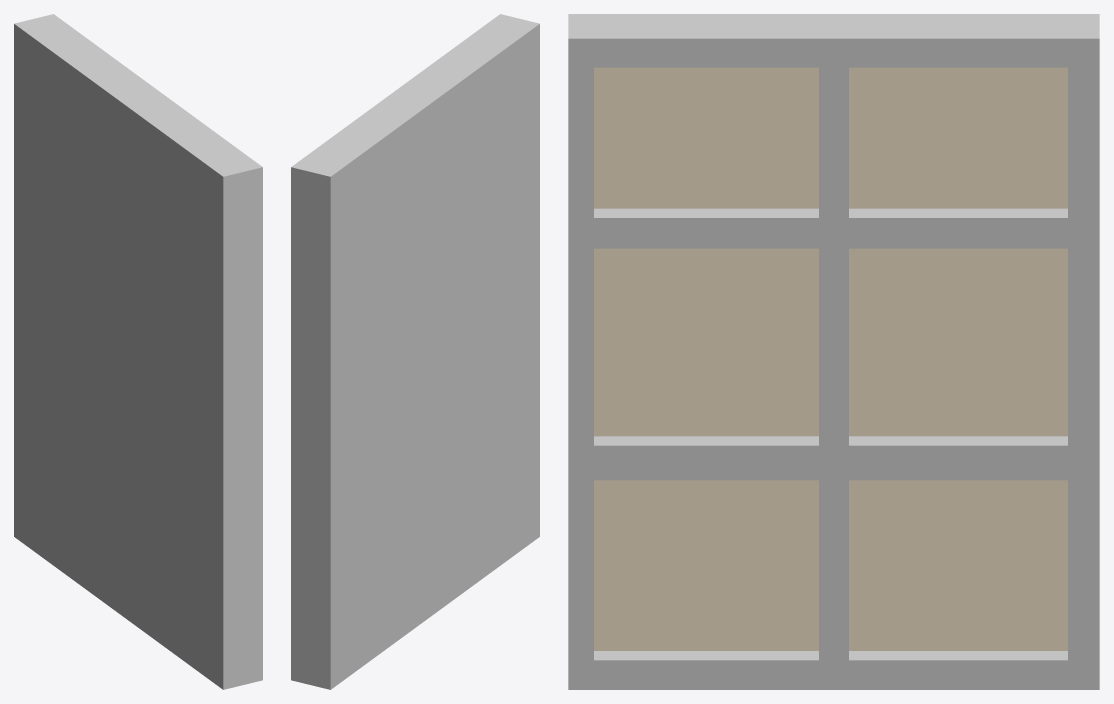
Rendered from Paper_door.fbx.
3 views of the same model, side by side, from view 1: azimuth 30°, elevation 25°; view 2: azimuth 150°, elevation 25°; view 3: azimuth 270°, elevation 25° (orthographic). The views are drawn at different scales.
Parts seen in each view (by area): view 1: Paper_door; view 2: Paper_door; view 3: Paper_door.
Boxes of the visible parts, <box> form: Paper_door: <box>14,14,262,689</box>; Paper_door: <box>291,14,539,689</box>; Paper_door: <box>568,14,1099,689</box>.
Bounding box in the file's own units: 0.3256 × 4.03 × 2.98.
